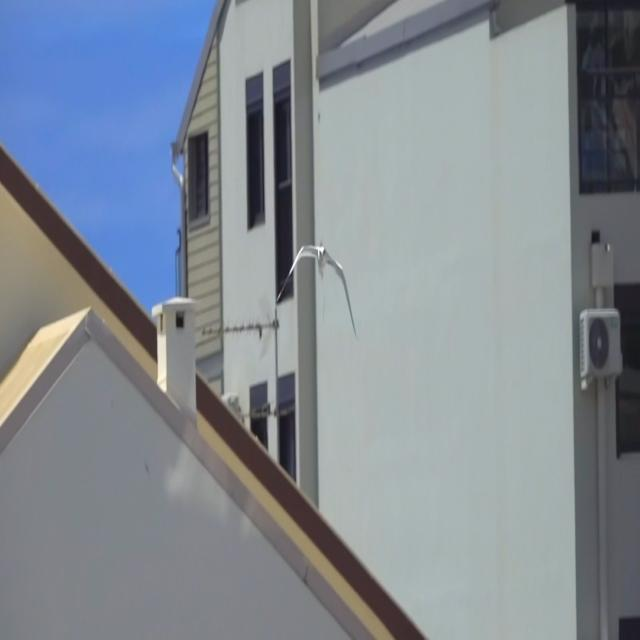bird: (273, 224, 362, 342)
